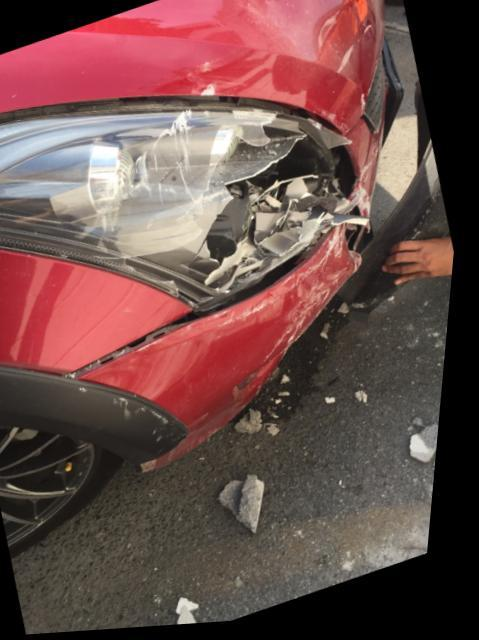lamp broken: (0, 96, 357, 307)
scratch: (216, 232, 365, 368)
